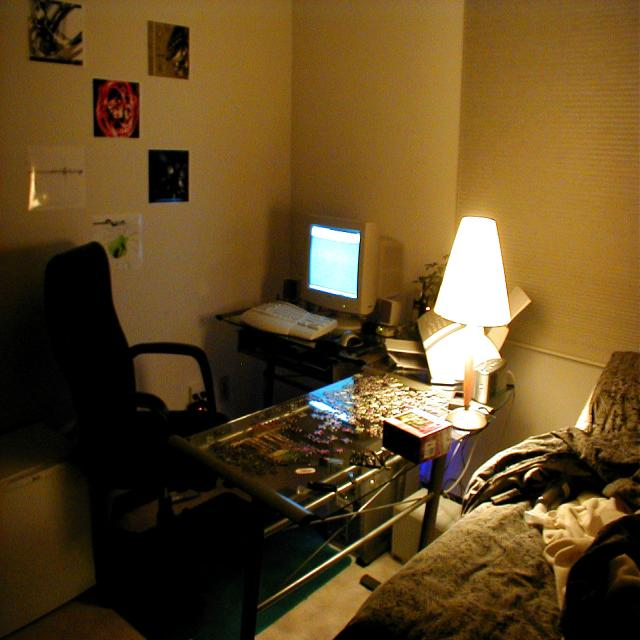Cup: (349, 392, 390, 472)
Table: (236, 271, 509, 640)
chair: (40, 239, 223, 634)
